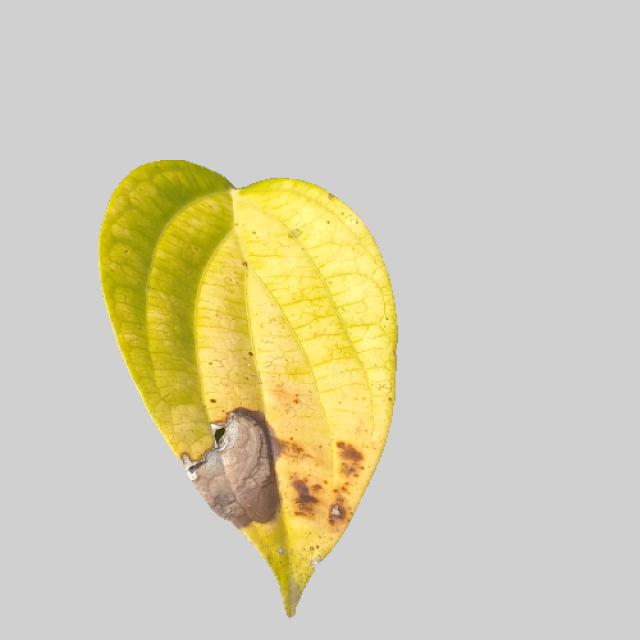leaf-blight: (87, 171, 401, 621)
